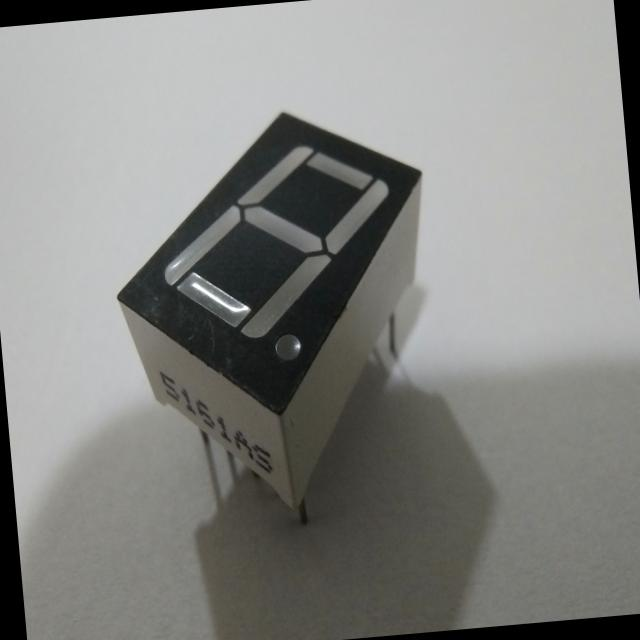7_segments: (85, 90, 462, 552)
